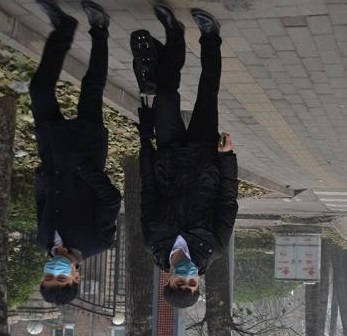person: (129, 2, 241, 309), (24, 1, 122, 304)
